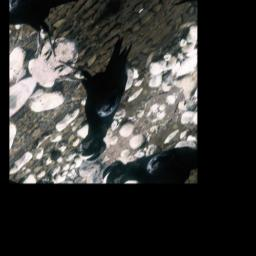Crow: (23, 16, 173, 168)
